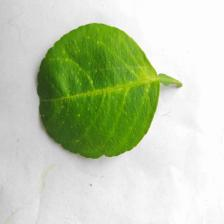greening: (59, 58, 159, 119)
